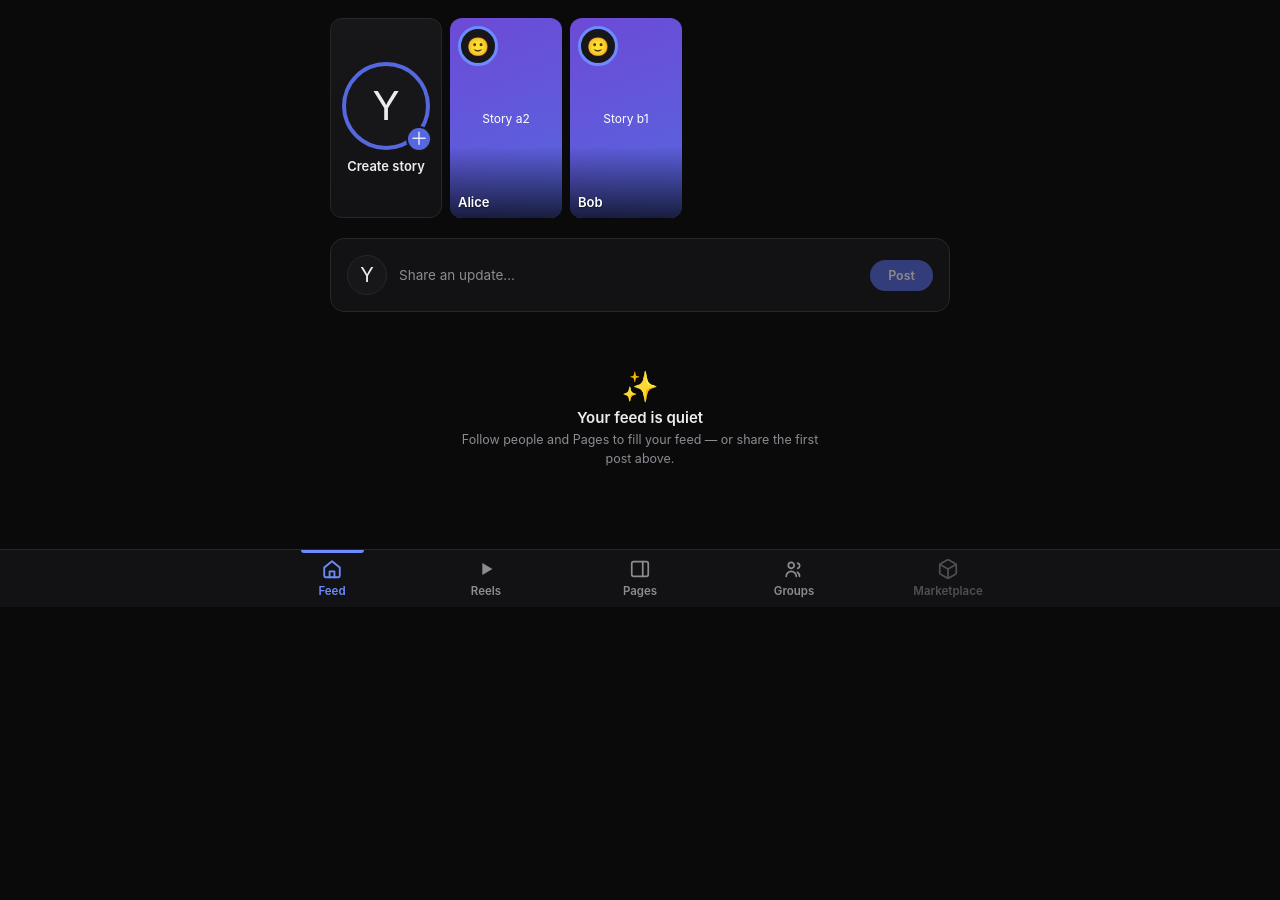
Test: FeedView action hierarchy › opens the story viewer with per-creator progress and navigates (EXP-1)
This screenshot has width=1280, height=900.
Click the button "Story a2 🙂 Alice" at (506, 118), box [450,18,562,218]
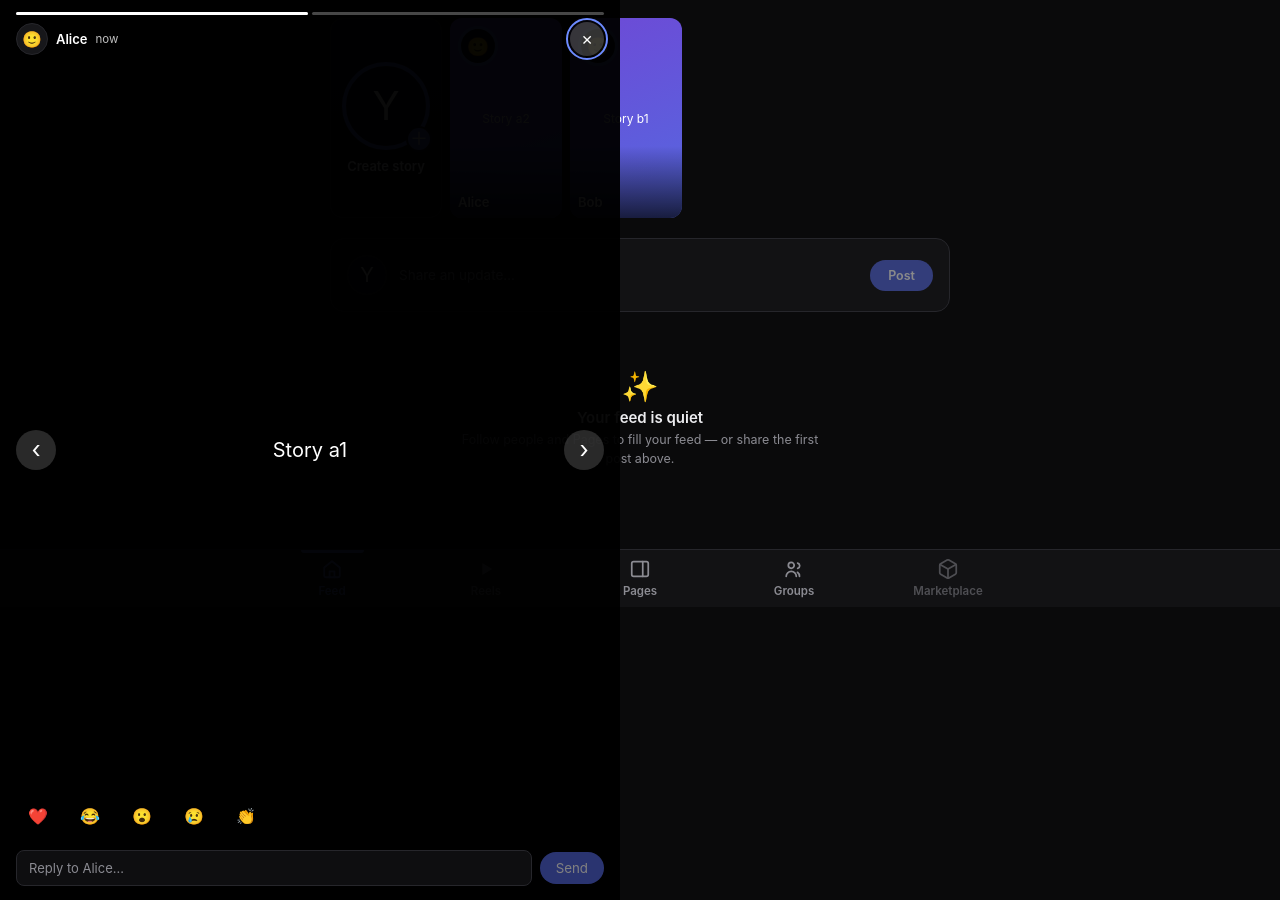
expect the dialog named "Story by Alice" is shown: met, box [0,0,620,899]
expect the number of elements with class "story-seg" is 2: met, box [16,12,308,15]; [312,12,604,15]
Click the button named "Next story" at (584, 450), box [564,430,604,470]
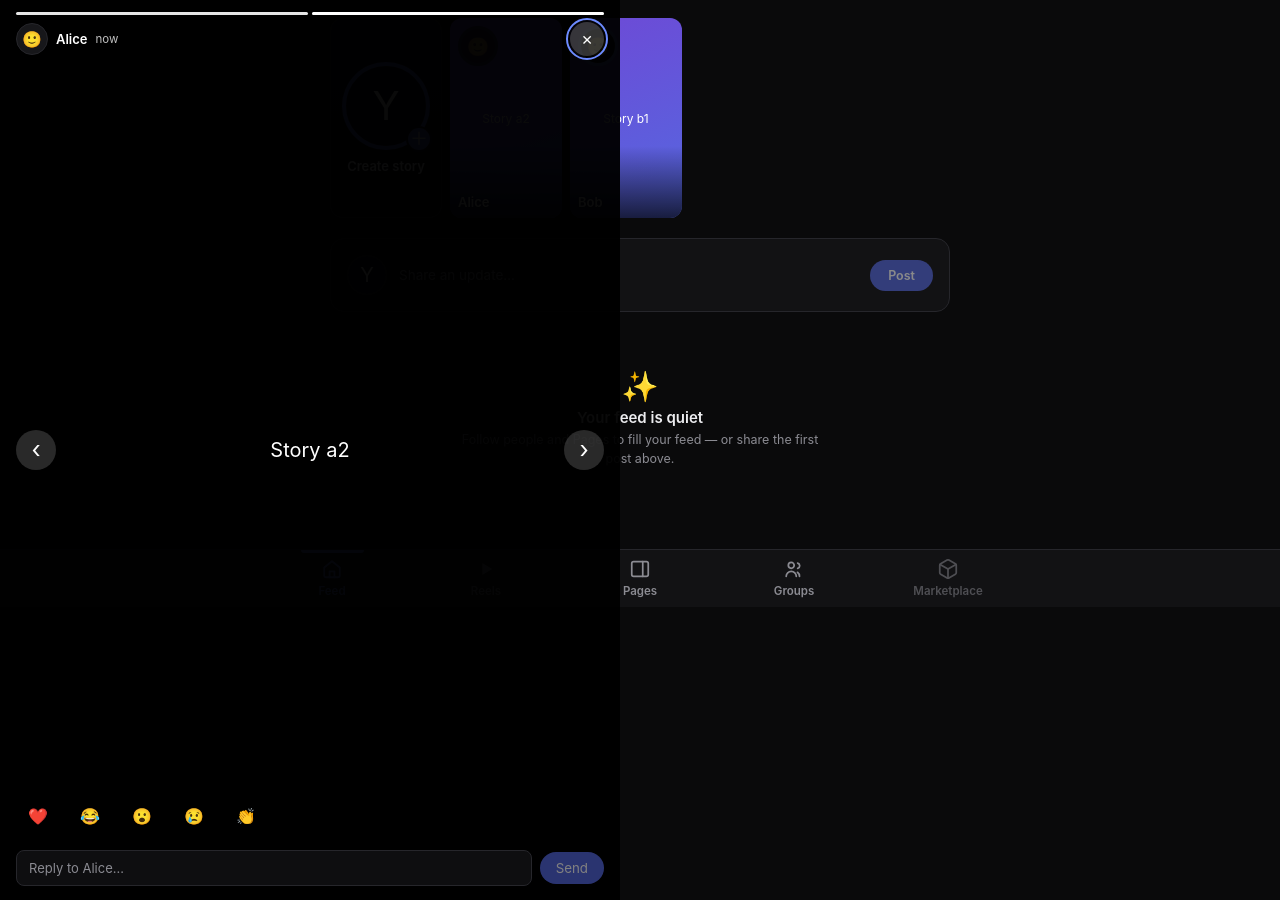
expect the dialog named "Story by Alice" is shown: met, box [0,0,620,899]
expect the number of elements with class "done" is 1: met, box [16,12,308,15]
Click the button named "Next story" at (584, 450), box [564,430,604,470]
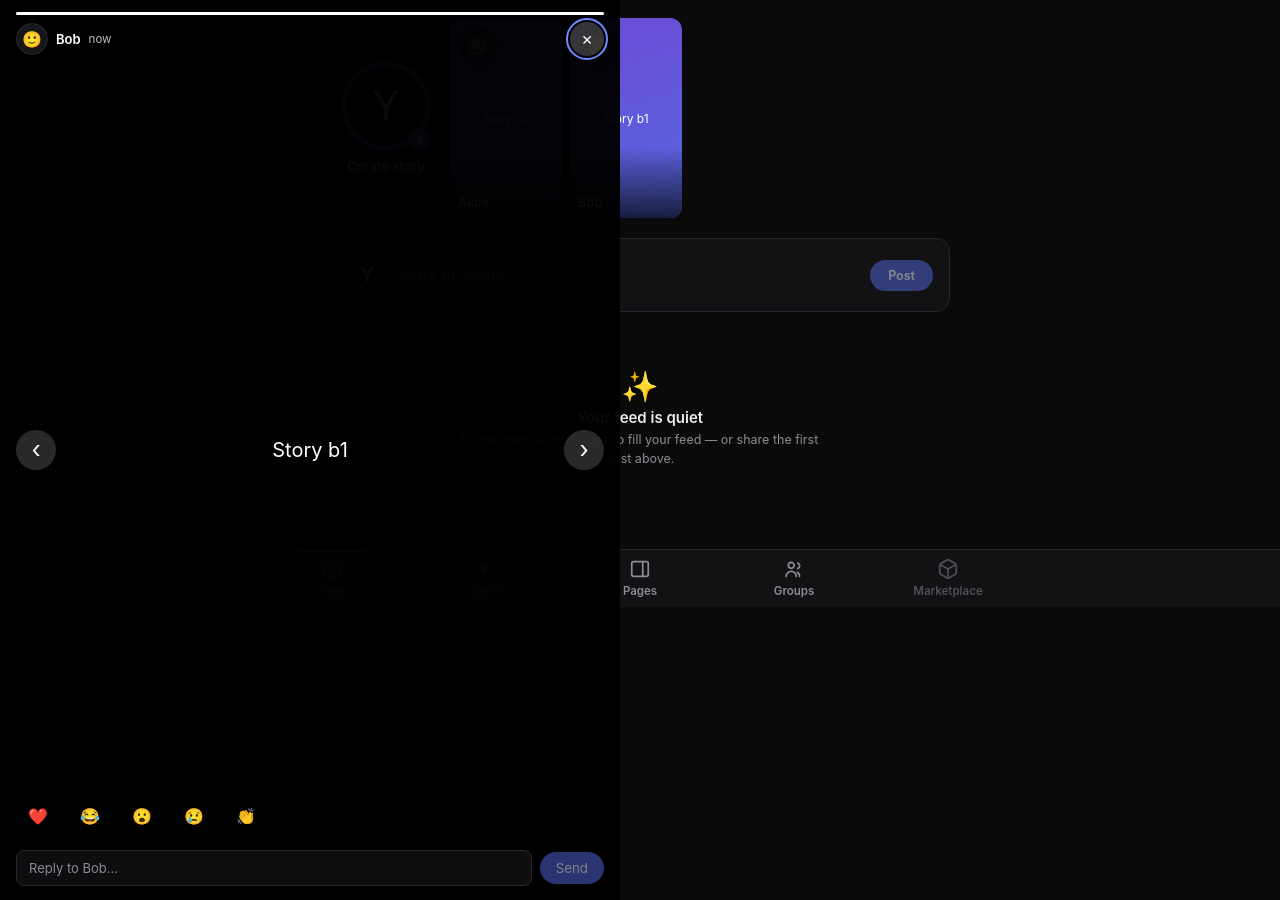
expect the dialog named "Story by Bob" is shown: met, box [0,0,620,899]
expect the number of elements with class "story-seg" is 1: met, box [16,12,604,15]
